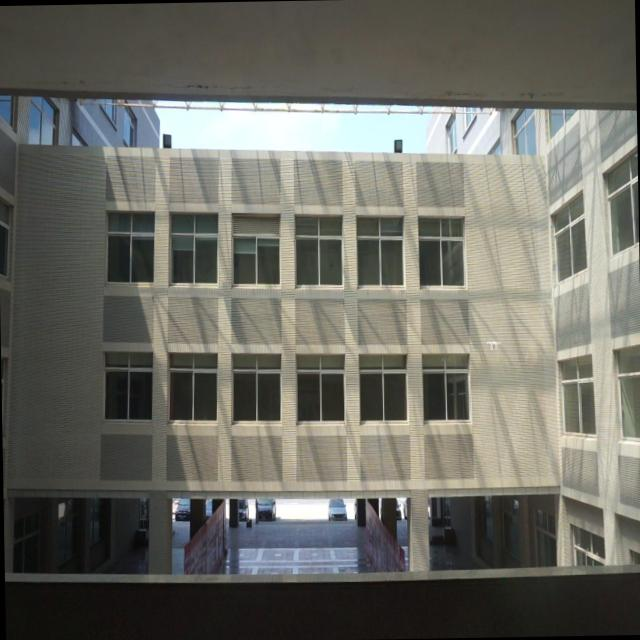drone: (484, 336, 501, 352)
